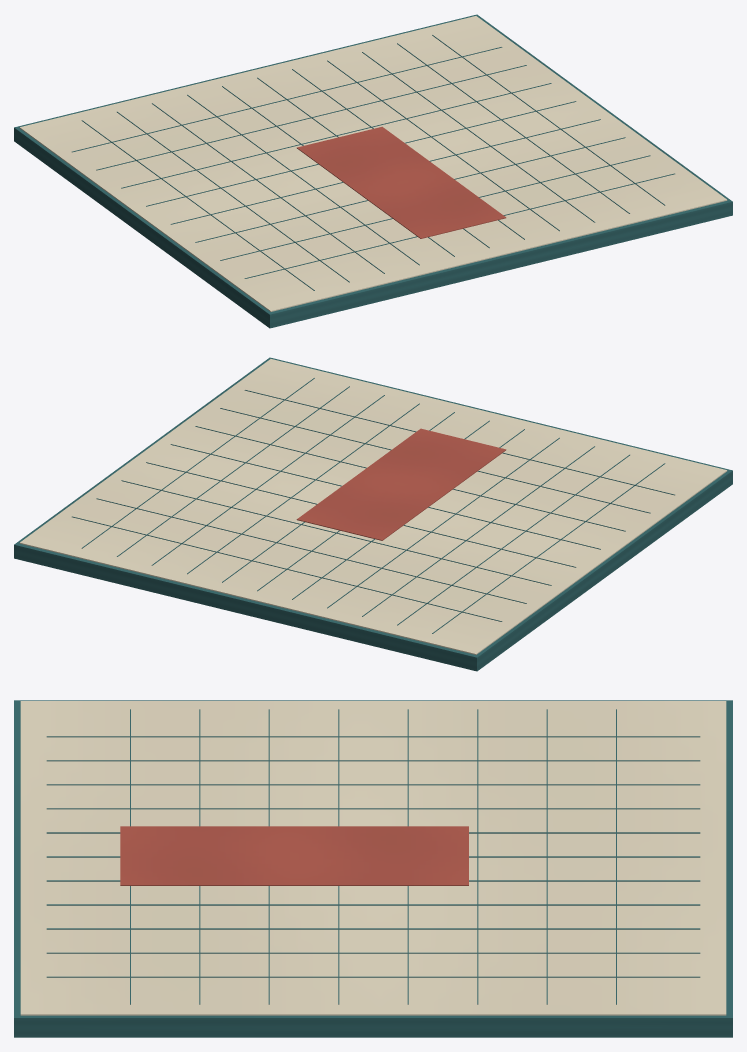
File: atlas100-s033-a07.glb
3 renders of one model, top to bottom at view 1: azimuth 30°, elevation 25°; view 2: azimuth 150°, elevation 25°; view 3: azimuth 270°, elevation 25°, orthographic. The views are drawn at different scales.
Visible parts, largest first — view 1: atlas100-s033-a07:part-001, atlas100-s033-a07:part-000, atlas100-s033-a07:part-021, atlas100-s033-a07:part-013, atlas100-s033-a07:part-014, atlas100-s033-a07:part-015, atlas100-s033-a07:part-020, atlas100-s033-a07:part-018, atlas100-s033-a07:part-019, atlas100-s033-a07:part-017, atlas100-s033-a07:part-016; view 2: atlas100-s033-a07:part-001, atlas100-s033-a07:part-000, atlas100-s033-a07:part-021, atlas100-s033-a07:part-013, atlas100-s033-a07:part-015, atlas100-s033-a07:part-014, atlas100-s033-a07:part-020, atlas100-s033-a07:part-016, atlas100-s033-a07:part-017, atlas100-s033-a07:part-018, atlas100-s033-a07:part-019; view 3: atlas100-s033-a07:part-001, atlas100-s033-a07:part-000, atlas100-s033-a07:part-021, atlas100-s033-a07:part-010, atlas100-s033-a07:part-009, atlas100-s033-a07:part-012, atlas100-s033-a07:part-002, atlas100-s033-a07:part-003, atlas100-s033-a07:part-004, atlas100-s033-a07:part-005, atlas100-s033-a07:part-011, atlas100-s033-a07:part-006 (+4 smaller).
Boxes of the visible parts, x1=… form: atlas100-s033-a07:part-001: x1=19, y1=16, x2=727, y2=311; atlas100-s033-a07:part-000: x1=14, y1=14, x2=732, y2=328; atlas100-s033-a07:part-021: x1=297, y1=126, x2=506, y2=238; atlas100-s033-a07:part-013: x1=72, y1=47, x2=502, y2=152; atlas100-s033-a07:part-014: x1=96, y1=65, x2=526, y2=170; atlas100-s033-a07:part-015: x1=121, y1=83, x2=551, y2=188; atlas100-s033-a07:part-020: x1=244, y1=173, x2=674, y2=278; atlas100-s033-a07:part-018: x1=195, y1=137, x2=625, y2=242; atlas100-s033-a07:part-019: x1=220, y1=155, x2=650, y2=260; atlas100-s033-a07:part-017: x1=170, y1=119, x2=600, y2=224; atlas100-s033-a07:part-016: x1=146, y1=101, x2=576, y2=206; atlas100-s033-a07:part-001: x1=19, y1=359, x2=727, y2=654; atlas100-s033-a07:part-000: x1=14, y1=357, x2=732, y2=671; atlas100-s033-a07:part-021: x1=296, y1=428, x2=506, y2=540; atlas100-s033-a07:part-013: x1=72, y1=516, x2=502, y2=621; atlas100-s033-a07:part-015: x1=121, y1=480, x2=551, y2=585; atlas100-s033-a07:part-014: x1=96, y1=498, x2=526, y2=603; atlas100-s033-a07:part-020: x1=244, y1=390, x2=674, y2=495; atlas100-s033-a07:part-016: x1=146, y1=462, x2=576, y2=567; atlas100-s033-a07:part-017: x1=170, y1=444, x2=600, y2=549; atlas100-s033-a07:part-018: x1=195, y1=426, x2=625, y2=531; atlas100-s033-a07:part-019: x1=220, y1=408, x2=650, y2=513; atlas100-s033-a07:part-001: x1=20, y1=701, x2=726, y2=1015; atlas100-s033-a07:part-000: x1=14, y1=700, x2=732, y2=1037; atlas100-s033-a07:part-021: x1=120, y1=826, x2=468, y2=885; atlas100-s033-a07:part-010: x1=46, y1=928, x2=700, y2=929; atlas100-s033-a07:part-009: x1=46, y1=904, x2=700, y2=905; atlas100-s033-a07:part-012: x1=46, y1=976, x2=700, y2=977; atlas100-s033-a07:part-002: x1=46, y1=736, x2=700, y2=737; atlas100-s033-a07:part-003: x1=46, y1=760, x2=700, y2=761; atlas100-s033-a07:part-004: x1=46, y1=784, x2=700, y2=785; atlas100-s033-a07:part-005: x1=46, y1=808, x2=700, y2=809; atlas100-s033-a07:part-011: x1=46, y1=952, x2=700, y2=953; atlas100-s033-a07:part-006: x1=46, y1=832, x2=700, y2=833.
Size of the model in its own units: 11.9 by 0.404 by 11.39.
Materials: 3 (3 with a texture image).
